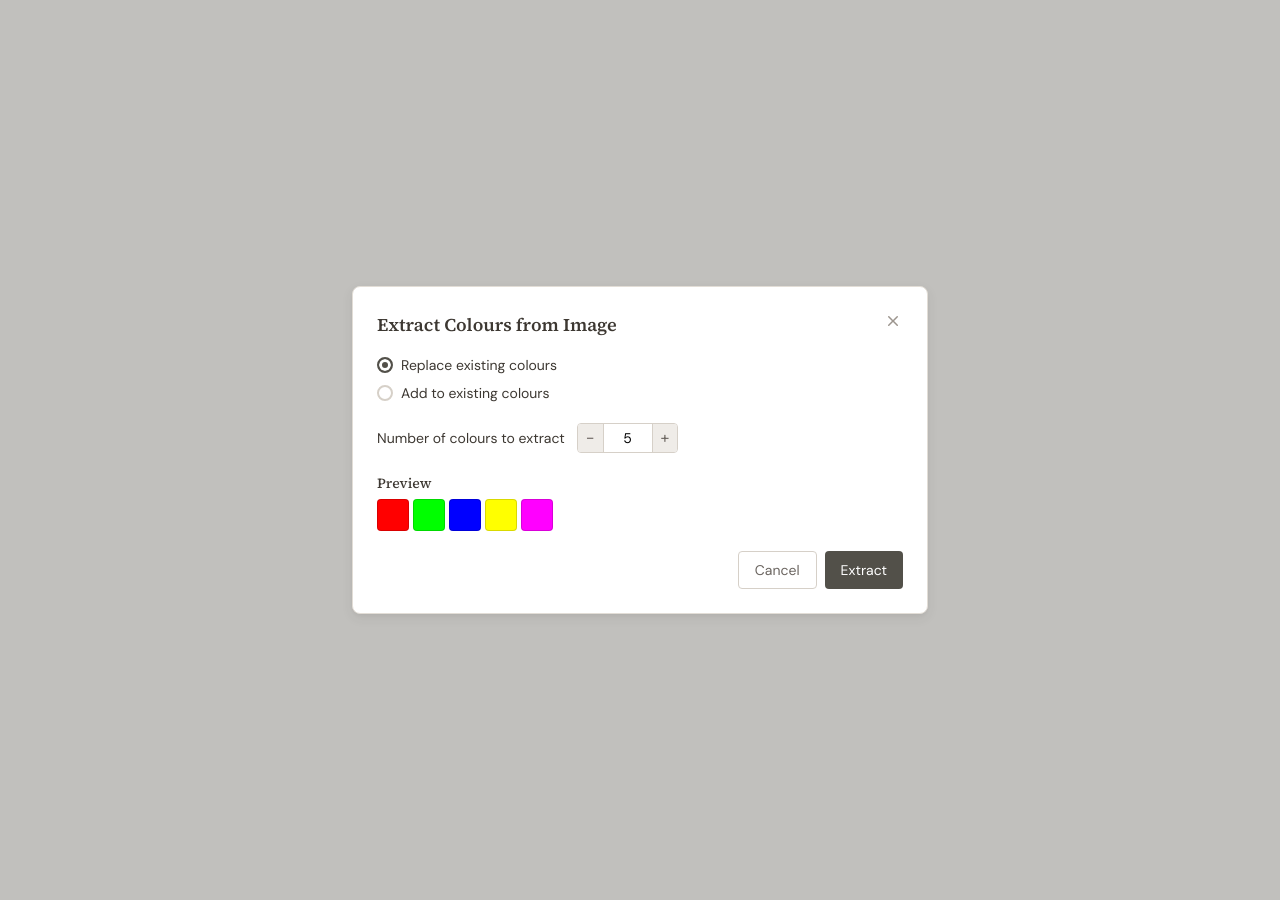
Scenario: ExtractColoursModal › clamps count to available slots when switching to add mode
Check: the number field named "Colour count" holds "5", box [604,424,652,452]
Click the radio button labelled "Add to existing colours": (385,393) [377,385,393,401]
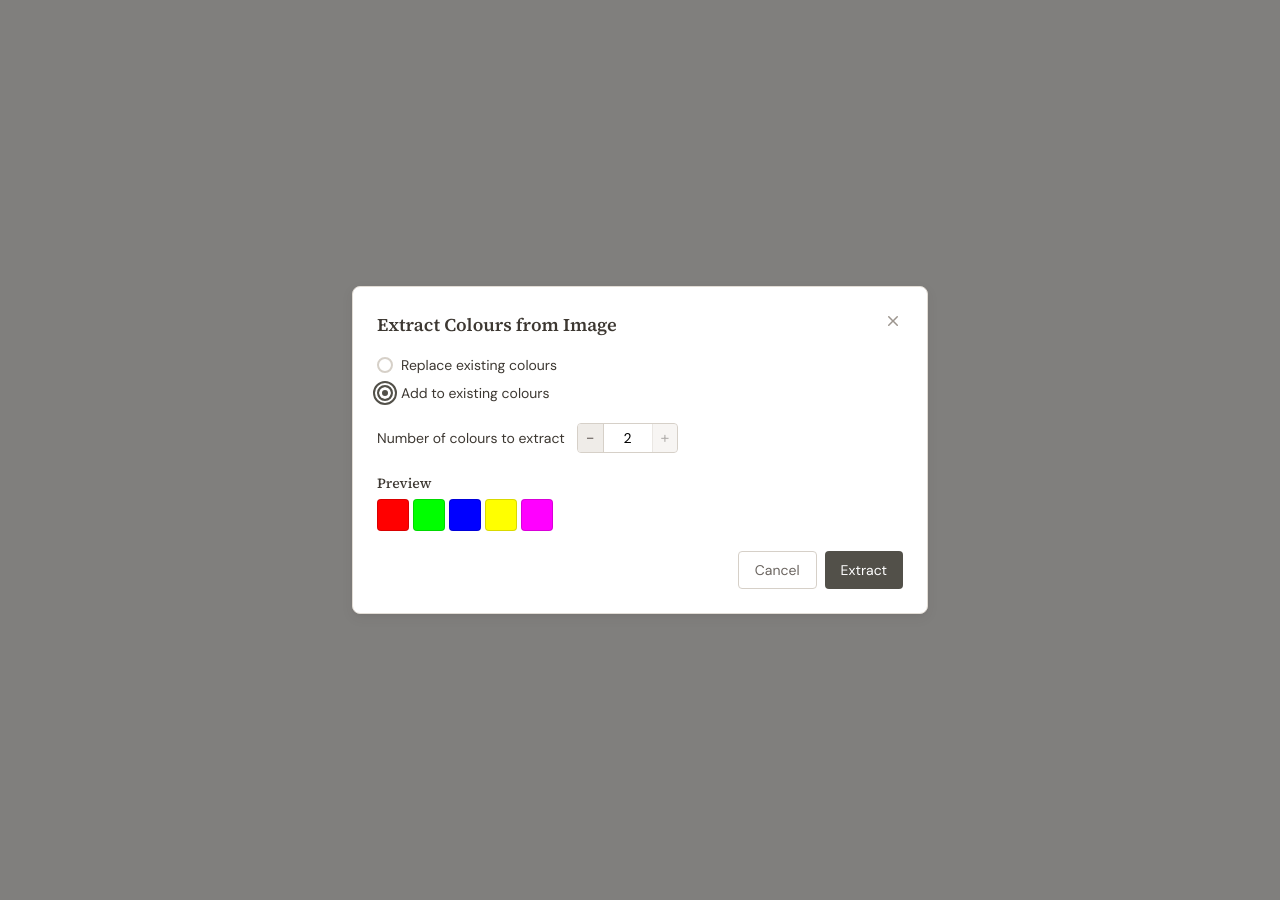
Check: the number field named "Colour count" holds "2", box [604,424,652,452]
